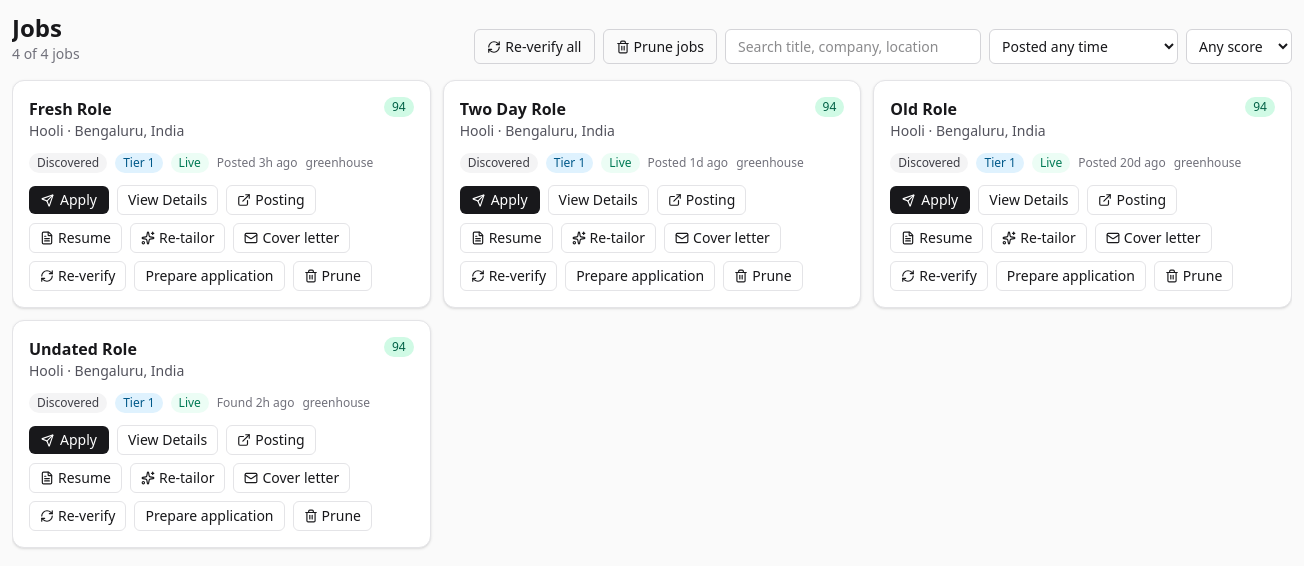
Test case: Jobs page › filters by how recently jobs were posted
Expected: the link "Old Role" is shown, x1=890 y1=98 x2=957 y2=120
Select "Posted within 24 hours" in the dropdown named "posted within" at (1084, 46), box x1=989 y1=29 x2=1178 y2=64
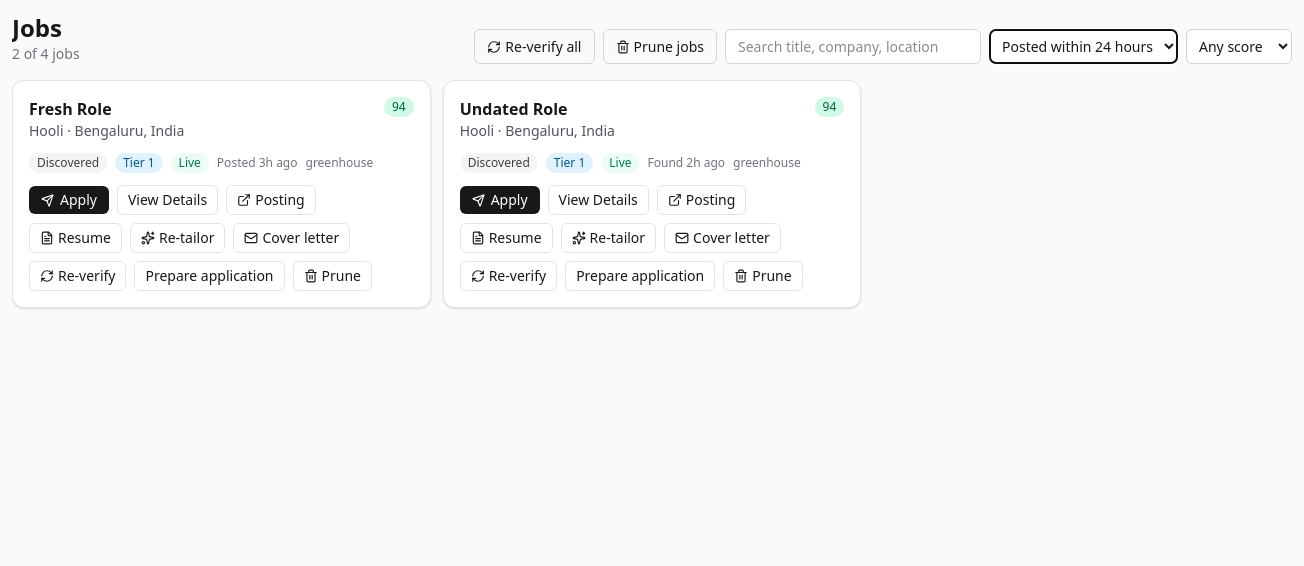
Expected: the link "Fresh Role" is shown, x1=29 y1=98 x2=112 y2=120
Expected: the link "Two Day Role" is gone
Expected: the link "Old Role" is gone
Select "Posted within 48 hours" in the dropdown named "posted within" at (1084, 46), box x1=989 y1=29 x2=1178 y2=64
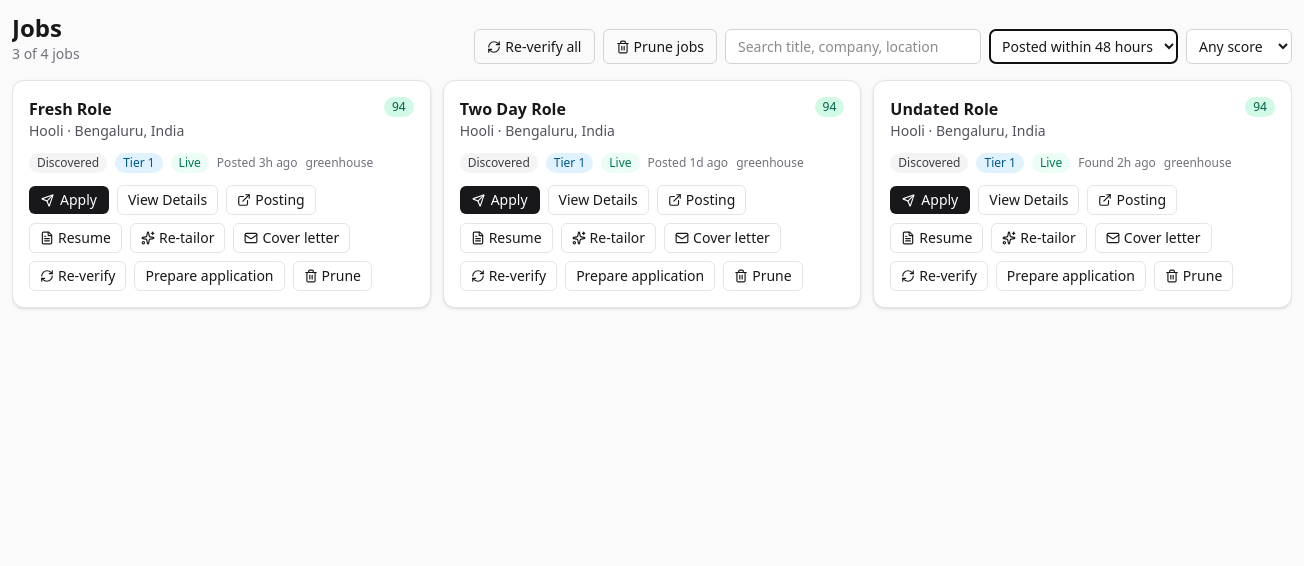
Expected: the link "Two Day Role" is shown, x1=460 y1=98 x2=566 y2=120
Select "Posted any time" in the dropdown named "posted within" at (1084, 46), box x1=989 y1=29 x2=1178 y2=64
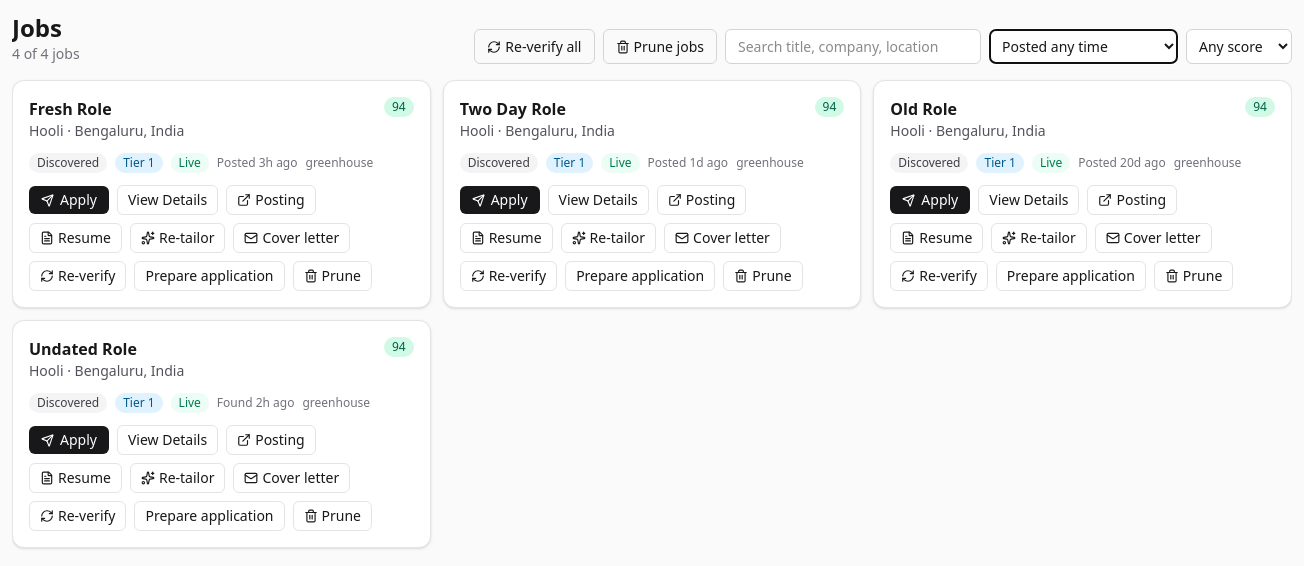
Expected: the link "Old Role" is shown, x1=890 y1=98 x2=957 y2=120
